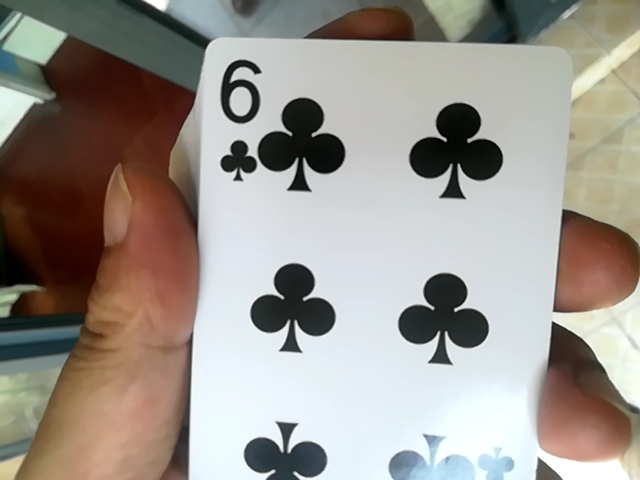mh 6: (194, 22, 564, 480)
